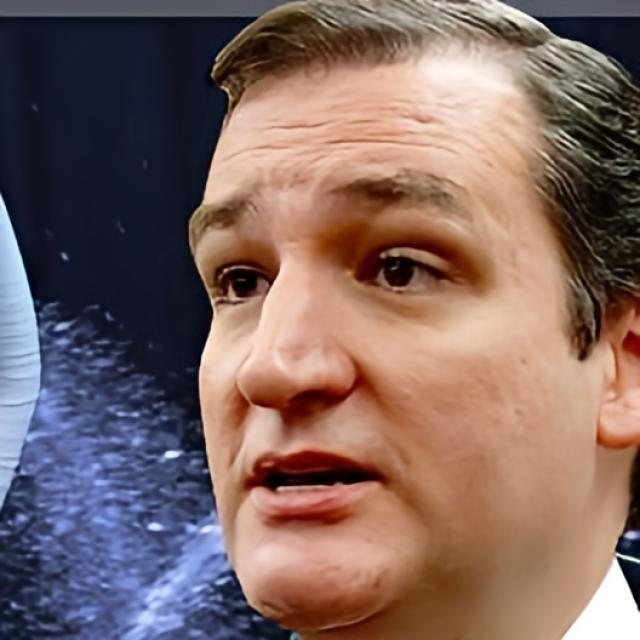surprise: (188, 40, 594, 633)
